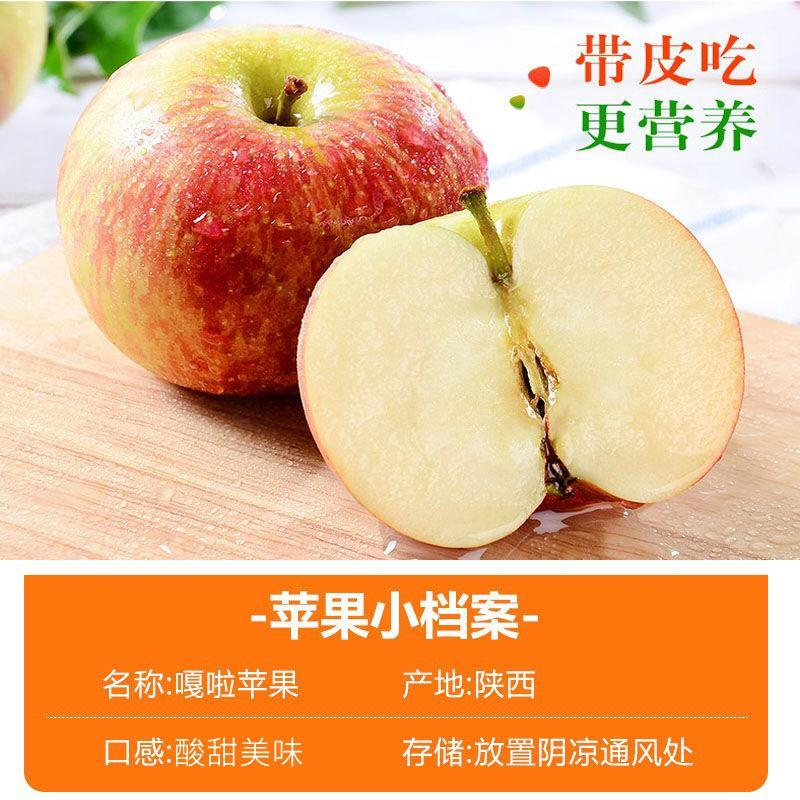apple: (47, 25, 508, 409)
